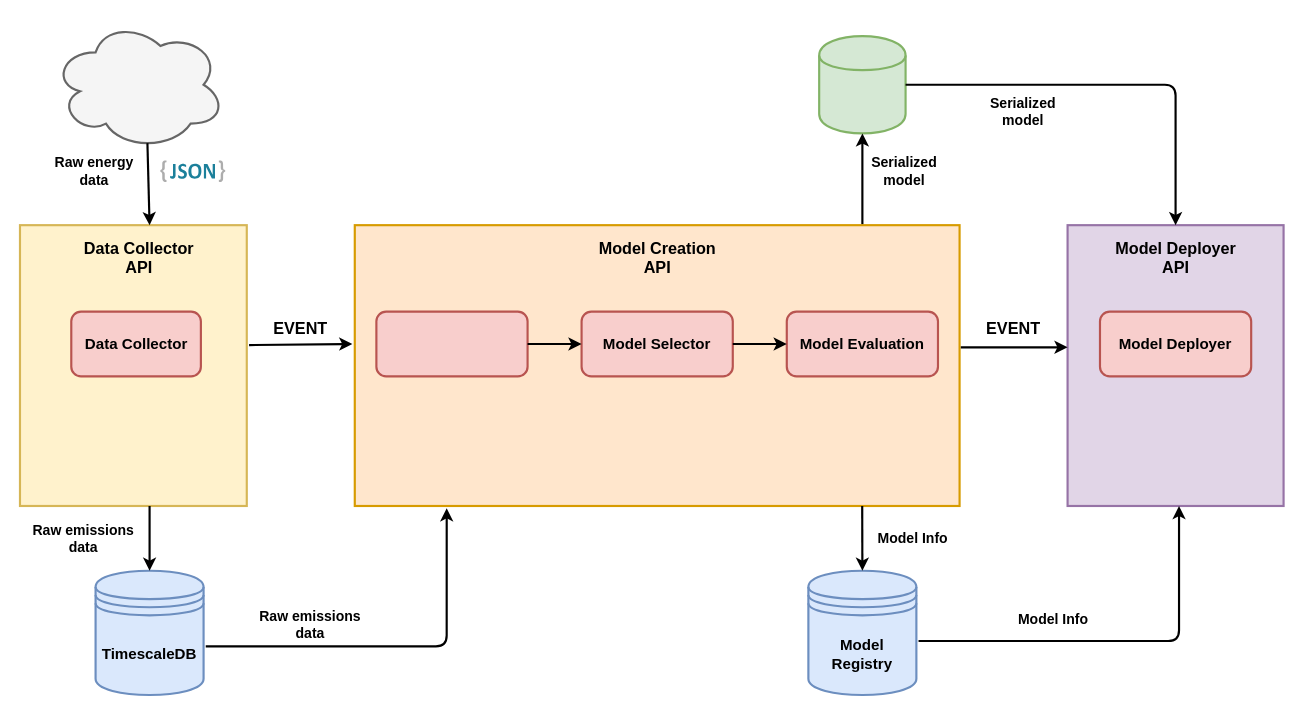
The diagram is 1302 pixels wide and 714 high, and some of its shapes have lost their labels. Here are the shapes that lost their labels. From the top down, the centre of each, then its label:
At point 138,84: "Spanish electrical network".
At point 862,84: "S3 Bucket".
At point 451,343: "Data Transformer".
